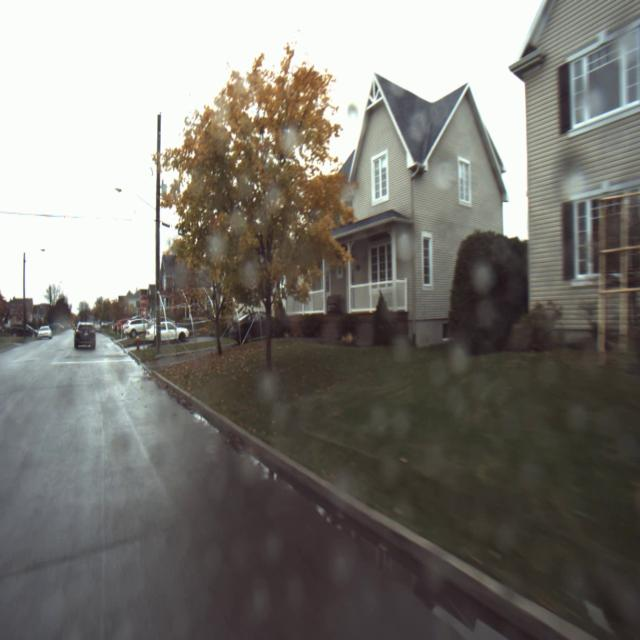car: (68, 314, 100, 356)
